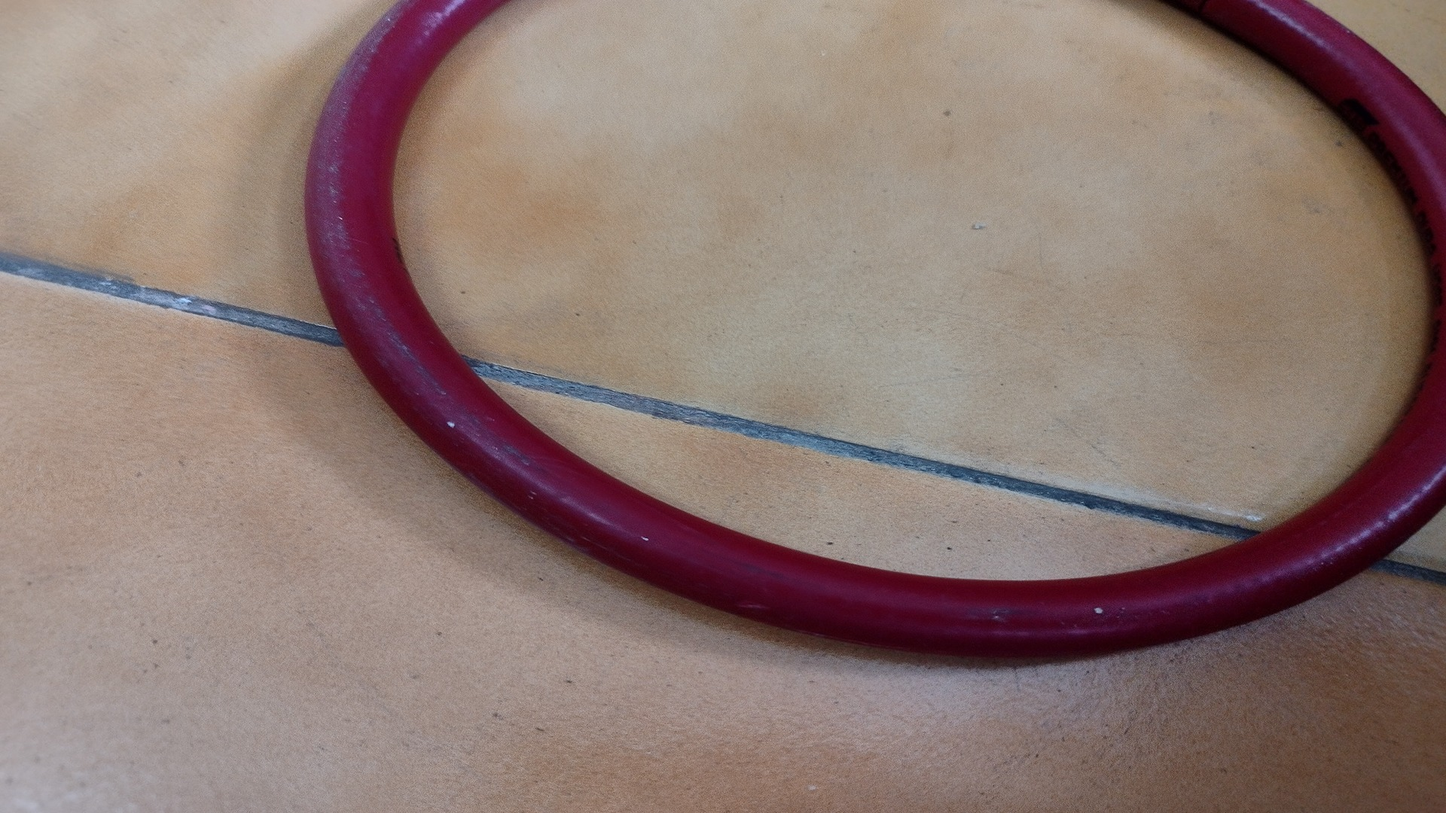Red ring: (312, 1, 1446, 659)
